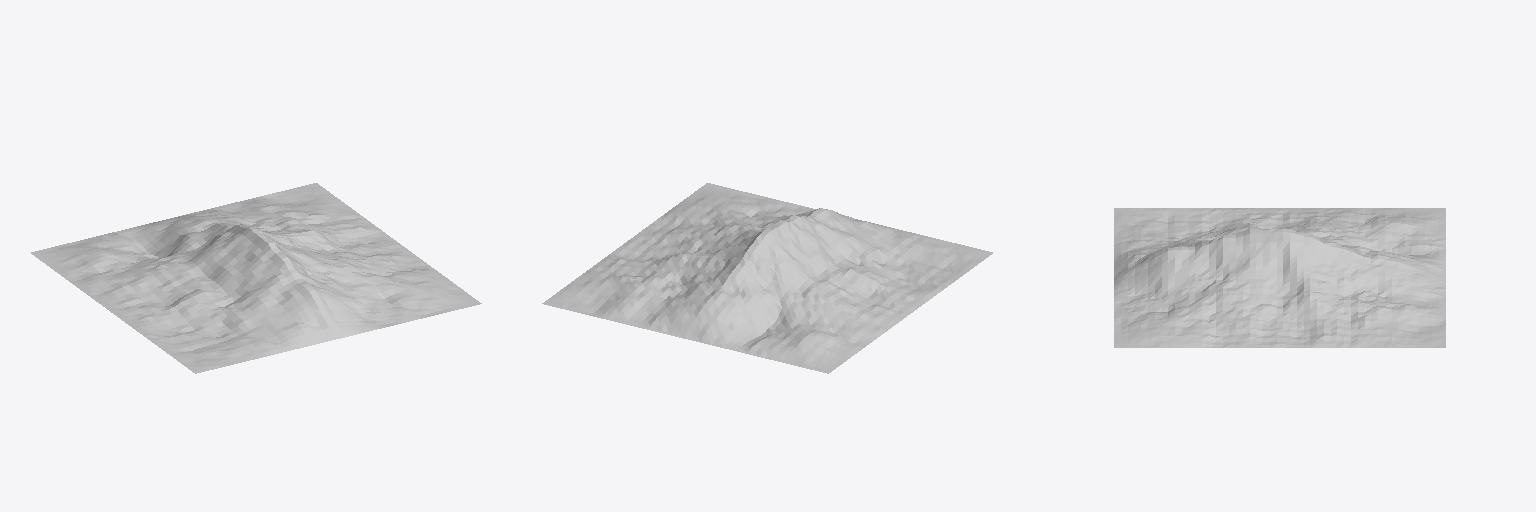
Rendered from ground.obj.
3 views of the same model, side by side, from view 1: azimuth 30°, elevation 25°; view 2: azimuth 150°, elevation 25°; view 3: azimuth 270°, elevation 25° (orthographic).
Visible parts, largest first — view 1: skpEAED_001; view 2: skpEAED_001; view 3: skpEAED_001.
Part boxes in pixels (left/top/right/bottom): skpEAED_001: left=31, top=183, right=481, bottom=373; skpEAED_001: left=542, top=183, right=992, bottom=373; skpEAED_001: left=1114, top=208, right=1445, bottom=347.
Size of the model in its own units: 466 by 79.92 by 466.